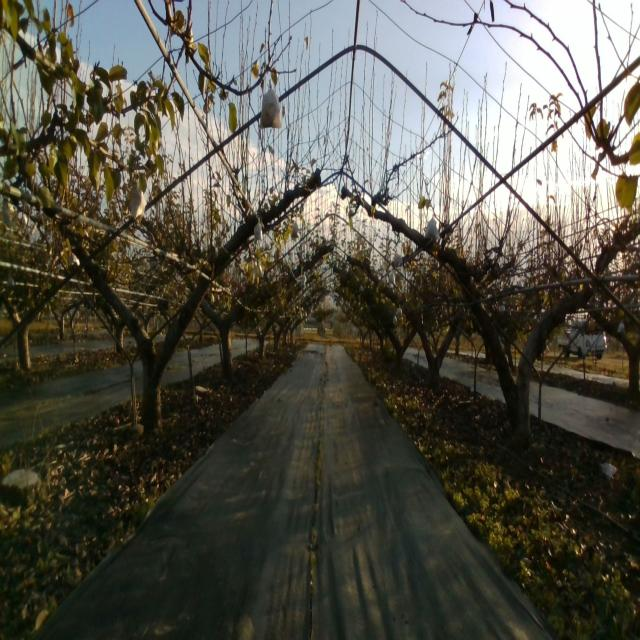pearbags: (257, 78, 282, 130), (128, 191, 146, 219), (424, 218, 439, 242)
